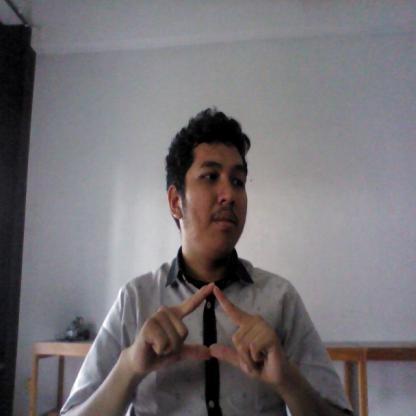A: (126, 281, 286, 386)
